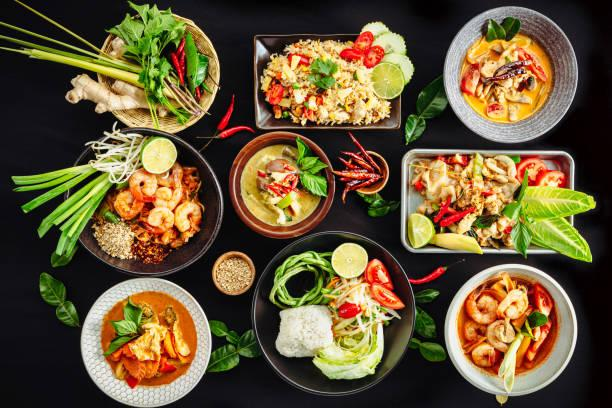Braised Crucian Carp: (252, 231, 416, 397), (66, 130, 218, 276), (442, 6, 579, 144), (443, 263, 577, 399), (402, 148, 573, 254), (80, 277, 209, 406), (97, 11, 217, 133), (254, 33, 402, 130), (228, 132, 333, 238)
